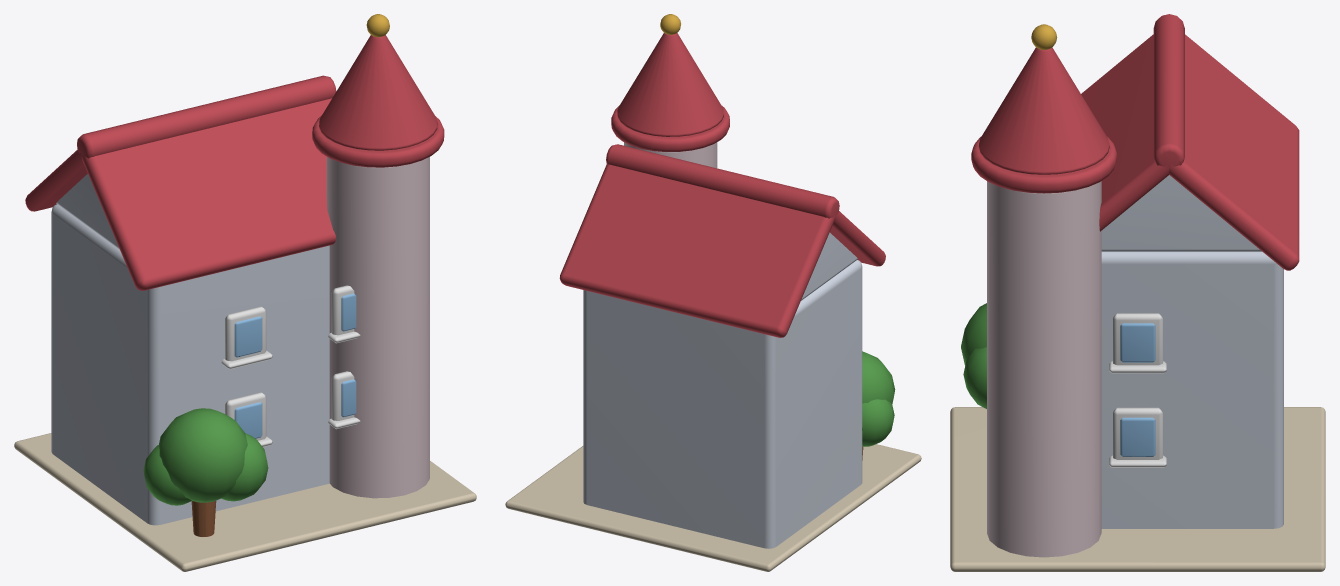
3 views of the same model, side by side, from view 1: azimuth 30°, elevation 25°; view 2: azimuth 150°, elevation 25°; view 3: azimuth 270°, elevation 25° (orthographic). The views are drawn at different scales.
Visible parts, largest first — view 1: Cube; view 2: Cube; view 3: Cube.
Part boxes in pixels (<box>): Cube: <box>14,14,476,571</box>; Cube: <box>505,14,921,571</box>; Cube: <box>950,14,1325,571</box>.
Size of the model in its own units: 0.725 by 1.1 by 0.72.
